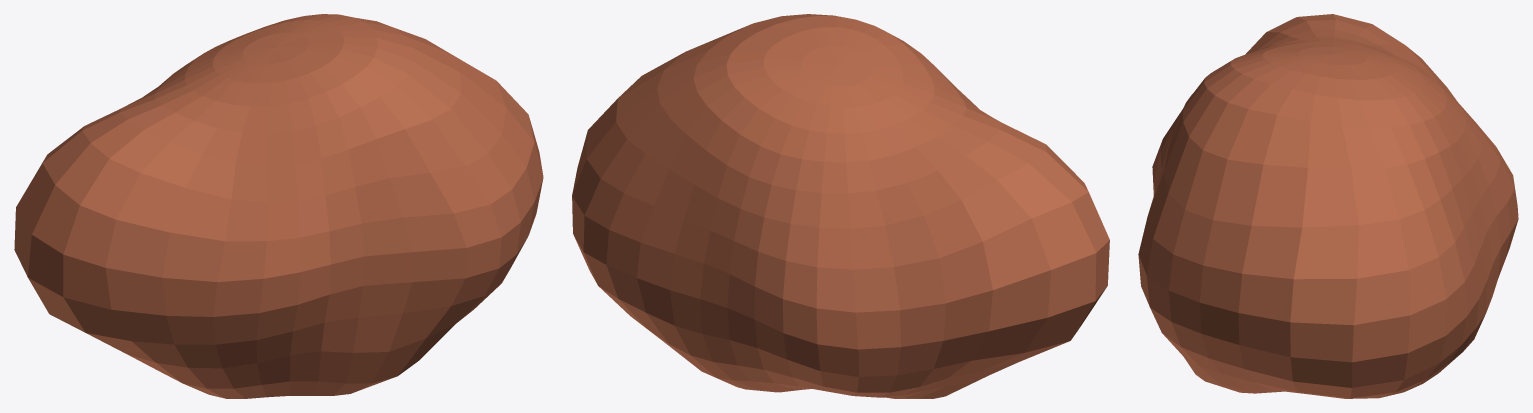
File: Potato.fbx
3 renders of one model, left to right at view 1: azimuth 30°, elevation 25°; view 2: azimuth 150°, elevation 25°; view 3: azimuth 270°, elevation 25°, orthographic. The views are drawn at different scales.
Visible parts, largest first — view 1: Сфера; view 2: Сфера; view 3: Сфера.
Part boxes in pixels (x1,y1,x2,y2): Сфера: (14,14,543,398); Сфера: (572,14,1109,398); Сфера: (1138,14,1518,398).
Bounding box in the file's own units: 363 × 229 × 242.
